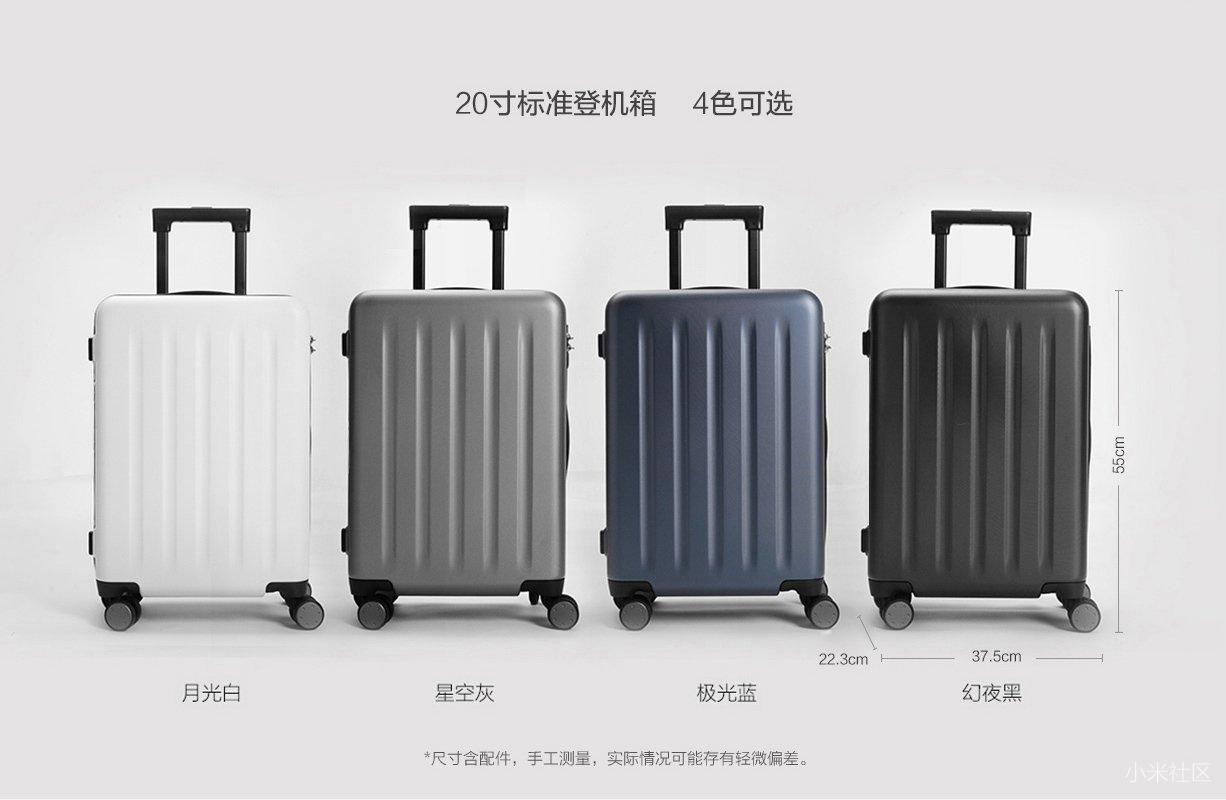suitcase: (86, 207, 326, 632), (344, 207, 584, 632), (600, 204, 840, 629), (863, 207, 1103, 632)
